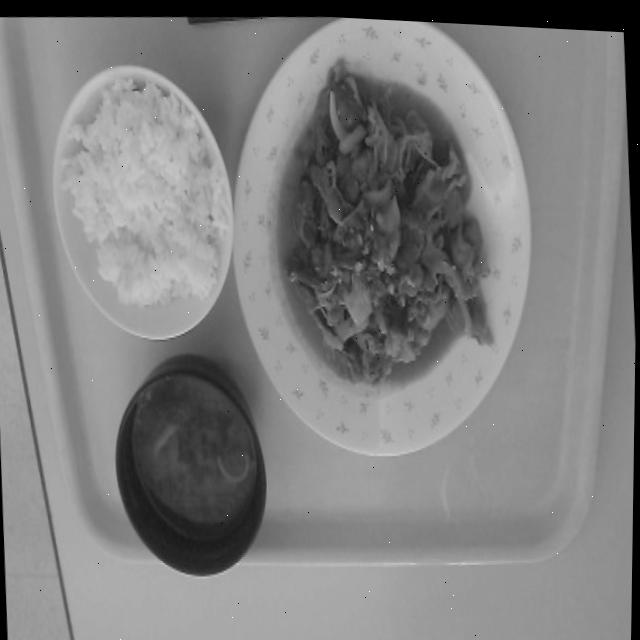米饭主食: (48, 57, 246, 354)
